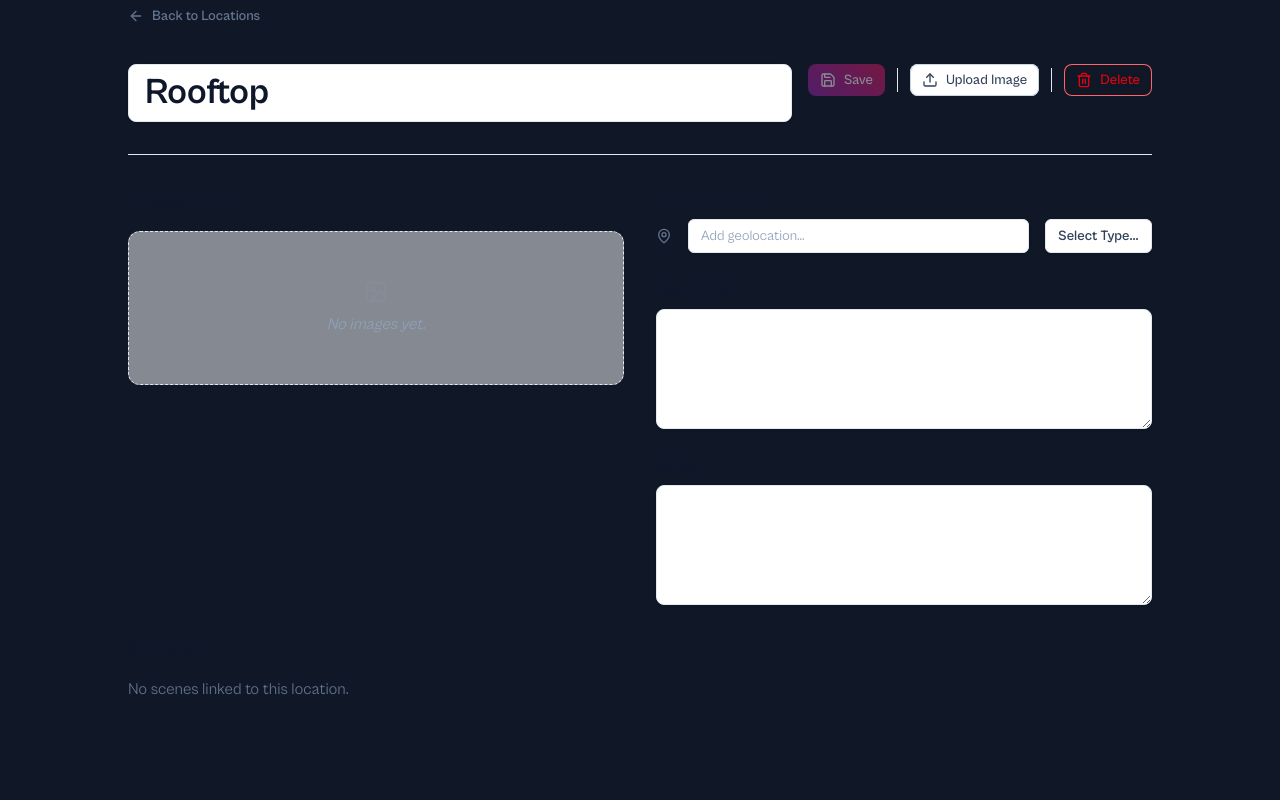
it: LocationDetail › shows "Saved" after a successful save
Replace the text in the field showing "Rooftop" with "Warehouse": (460,93) x1=128 y1=64 x2=792 y2=122
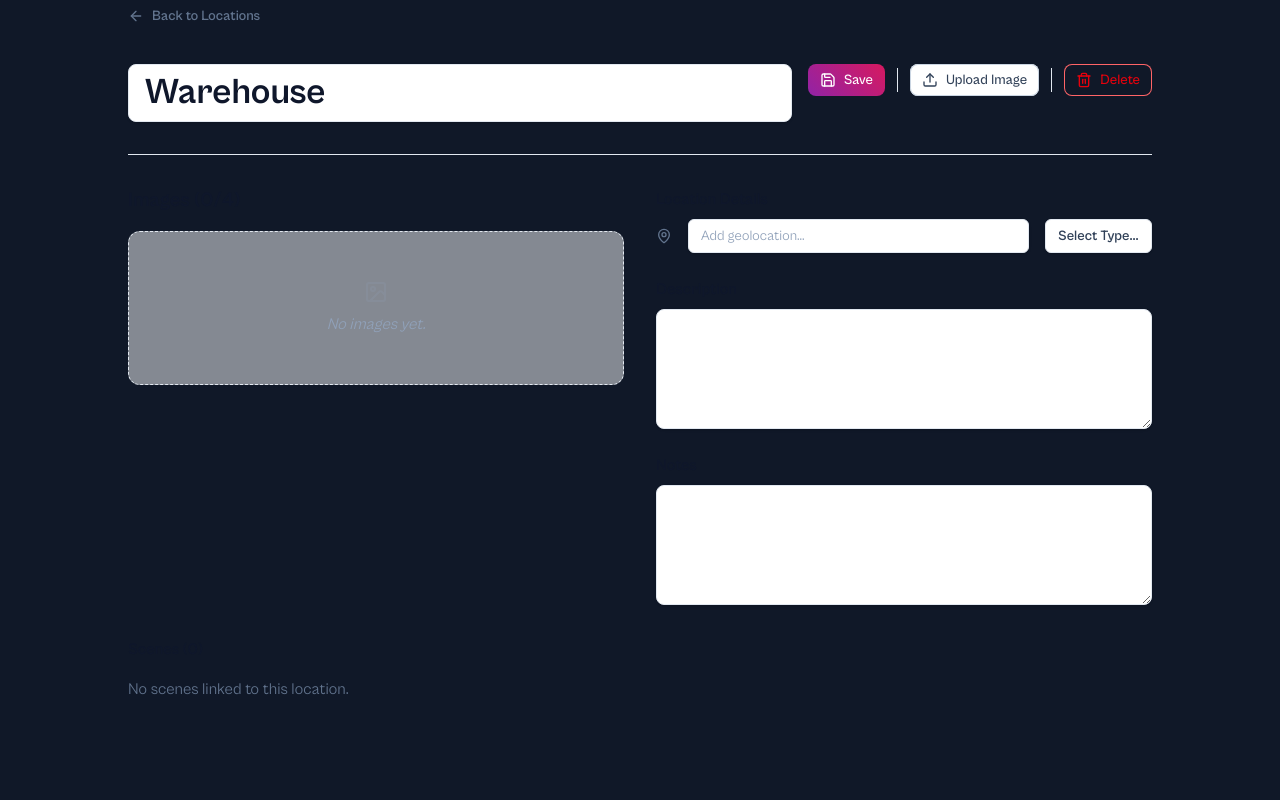
Click the button "Save": (846,80) x1=808 y1=64 x2=885 y2=96
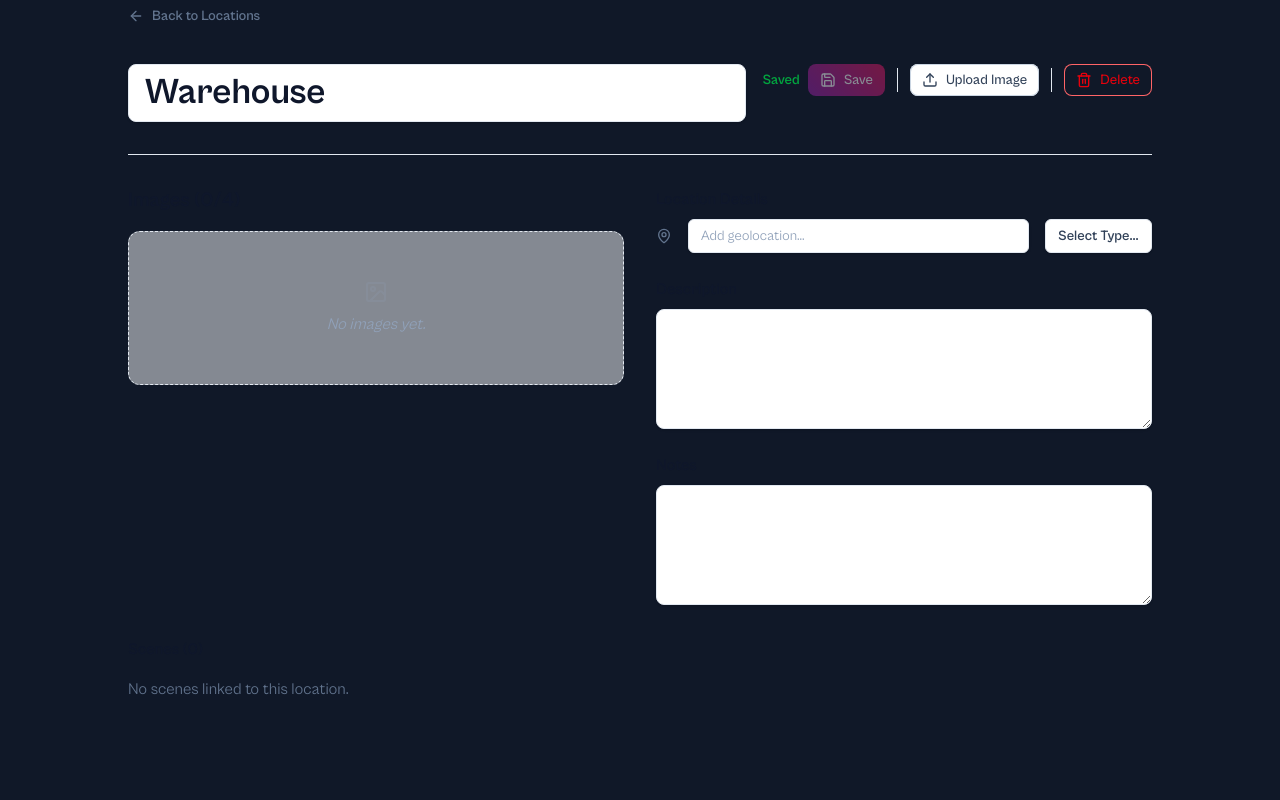
Result: the text "Saved" is shown at x1=762 y1=70 x2=800 y2=90
